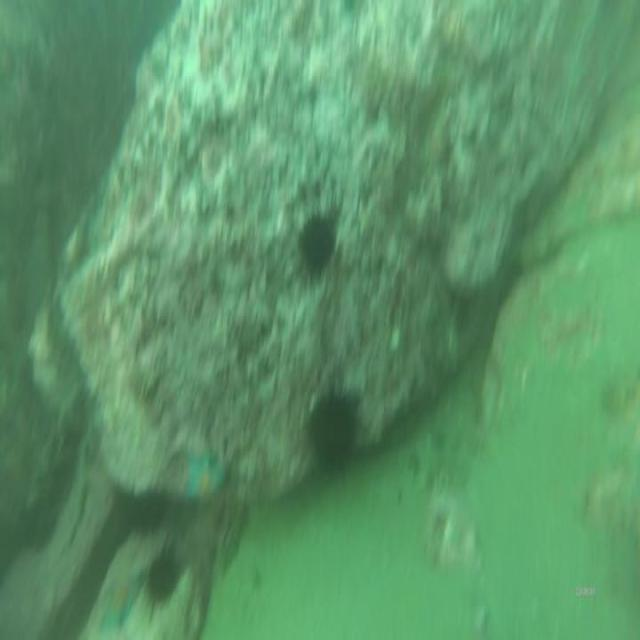echinus: (305, 373, 362, 482), (294, 201, 340, 283), (143, 534, 183, 621)
starfish: (183, 442, 230, 510), (99, 568, 142, 630)
